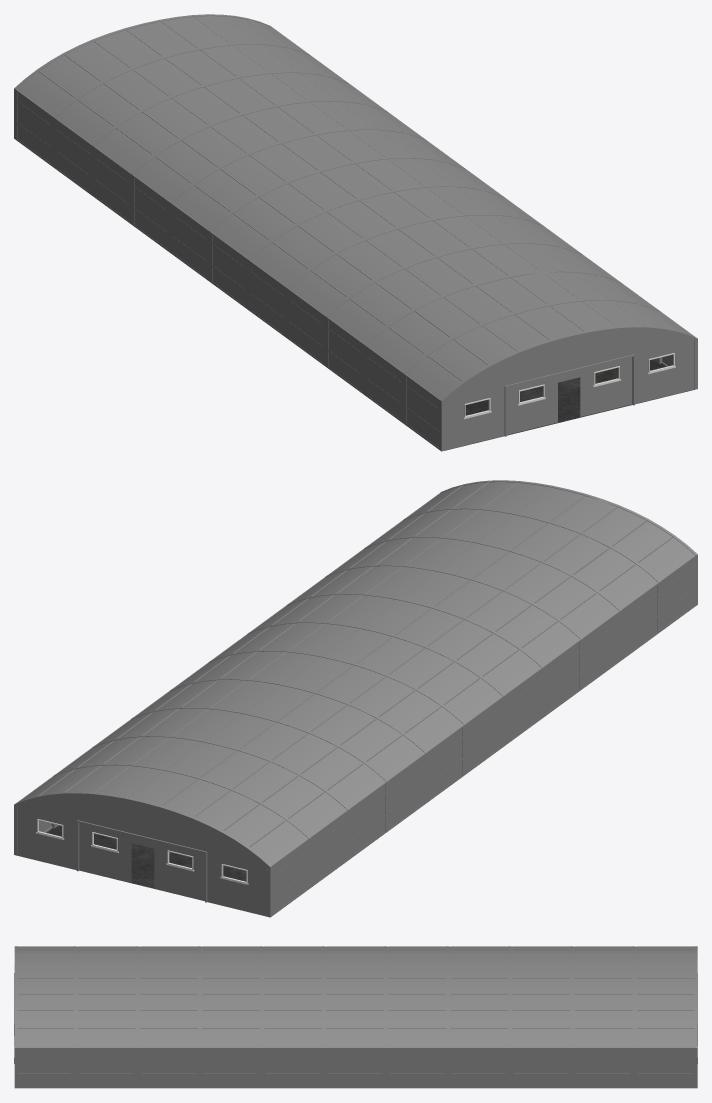
File: warehouse.windows-v1.lod0.glb
The picture shows the model from 3 angles, top to bottom: view 1: azimuth 30°, elevation 25°; view 2: azimuth 150°, elevation 25°; view 3: azimuth 270°, elevation 25°; orthographic projection. The views are drawn at different scales.
Visible parts, largest first — view 1: NurbsPath.005_Metal_0, NurbsPath.005_WetConcrete_0, Window trim; view 2: NurbsPath.005_Metal_0, NurbsPath.005_WetConcrete_0, Window trim; view 3: NurbsPath.005_Metal_0.
Part boxes in pixels (x1,y1,x2,y2): NurbsPath.005_Metal_0: [14, 14, 697, 451]; NurbsPath.005_WetConcrete_0: [445, 359, 694, 450]; Window trim: [463, 353, 675, 418]; NurbsPath.005_Metal_0: [14, 480, 697, 917]; NurbsPath.005_WetConcrete_0: [46, 825, 246, 900]; Window trim: [36, 819, 248, 884]; NurbsPath.005_Metal_0: [14, 946, 697, 1088].
Size of the model in its own units: 16 by 5.02 by 46.27.
4 materials, 1 textured.
